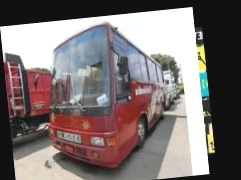bus: (39, 15, 176, 178)
